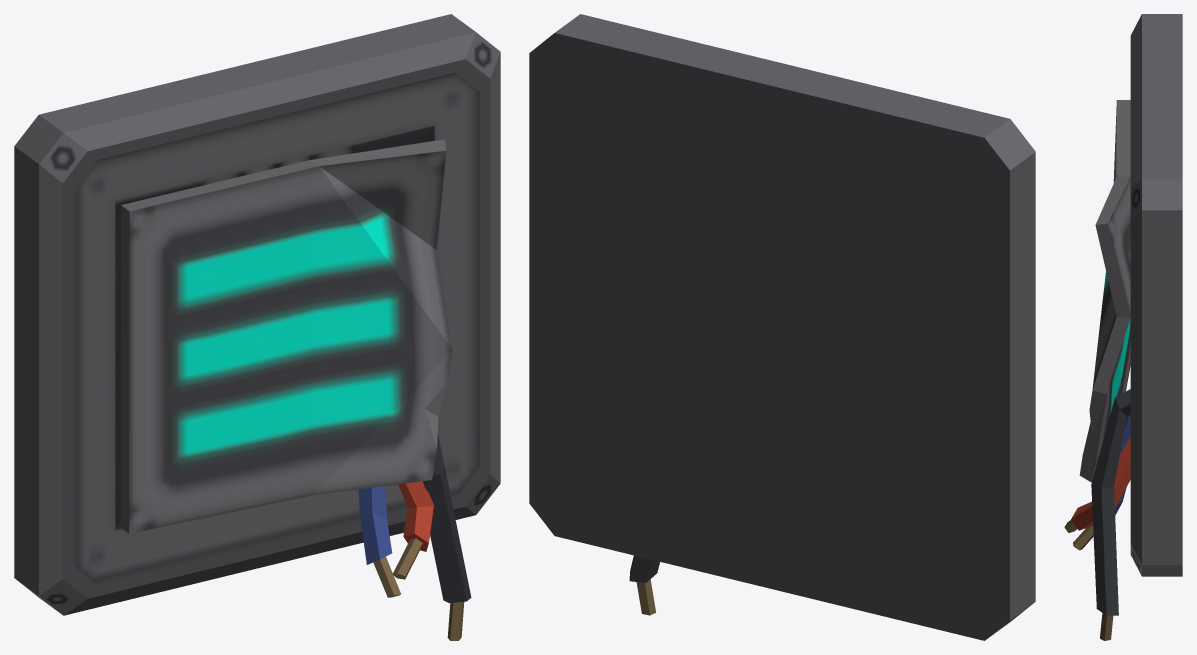
The model's file is SM_Prop_Greebles_17.fbx.
3 views of the same model, side by side, from view 1: azimuth 30°, elevation 25°; view 2: azimuth 150°, elevation 25°; view 3: azimuth 270°, elevation 25° (orthographic). The views are drawn at different scales.
Visible parts, largest first — view 1: SM_Prop_Greebles_17; view 2: SM_Prop_Greebles_17; view 3: SM_Prop_Greebles_17.
Part boxes in pixels (x1,y1,x2,y2): SM_Prop_Greebles_17: (14, 14, 500, 640); SM_Prop_Greebles_17: (529, 14, 1035, 640); SM_Prop_Greebles_17: (1064, 14, 1182, 640).
Bounding box in the file's own units: 81.36 × 97.67 × 21.97.
